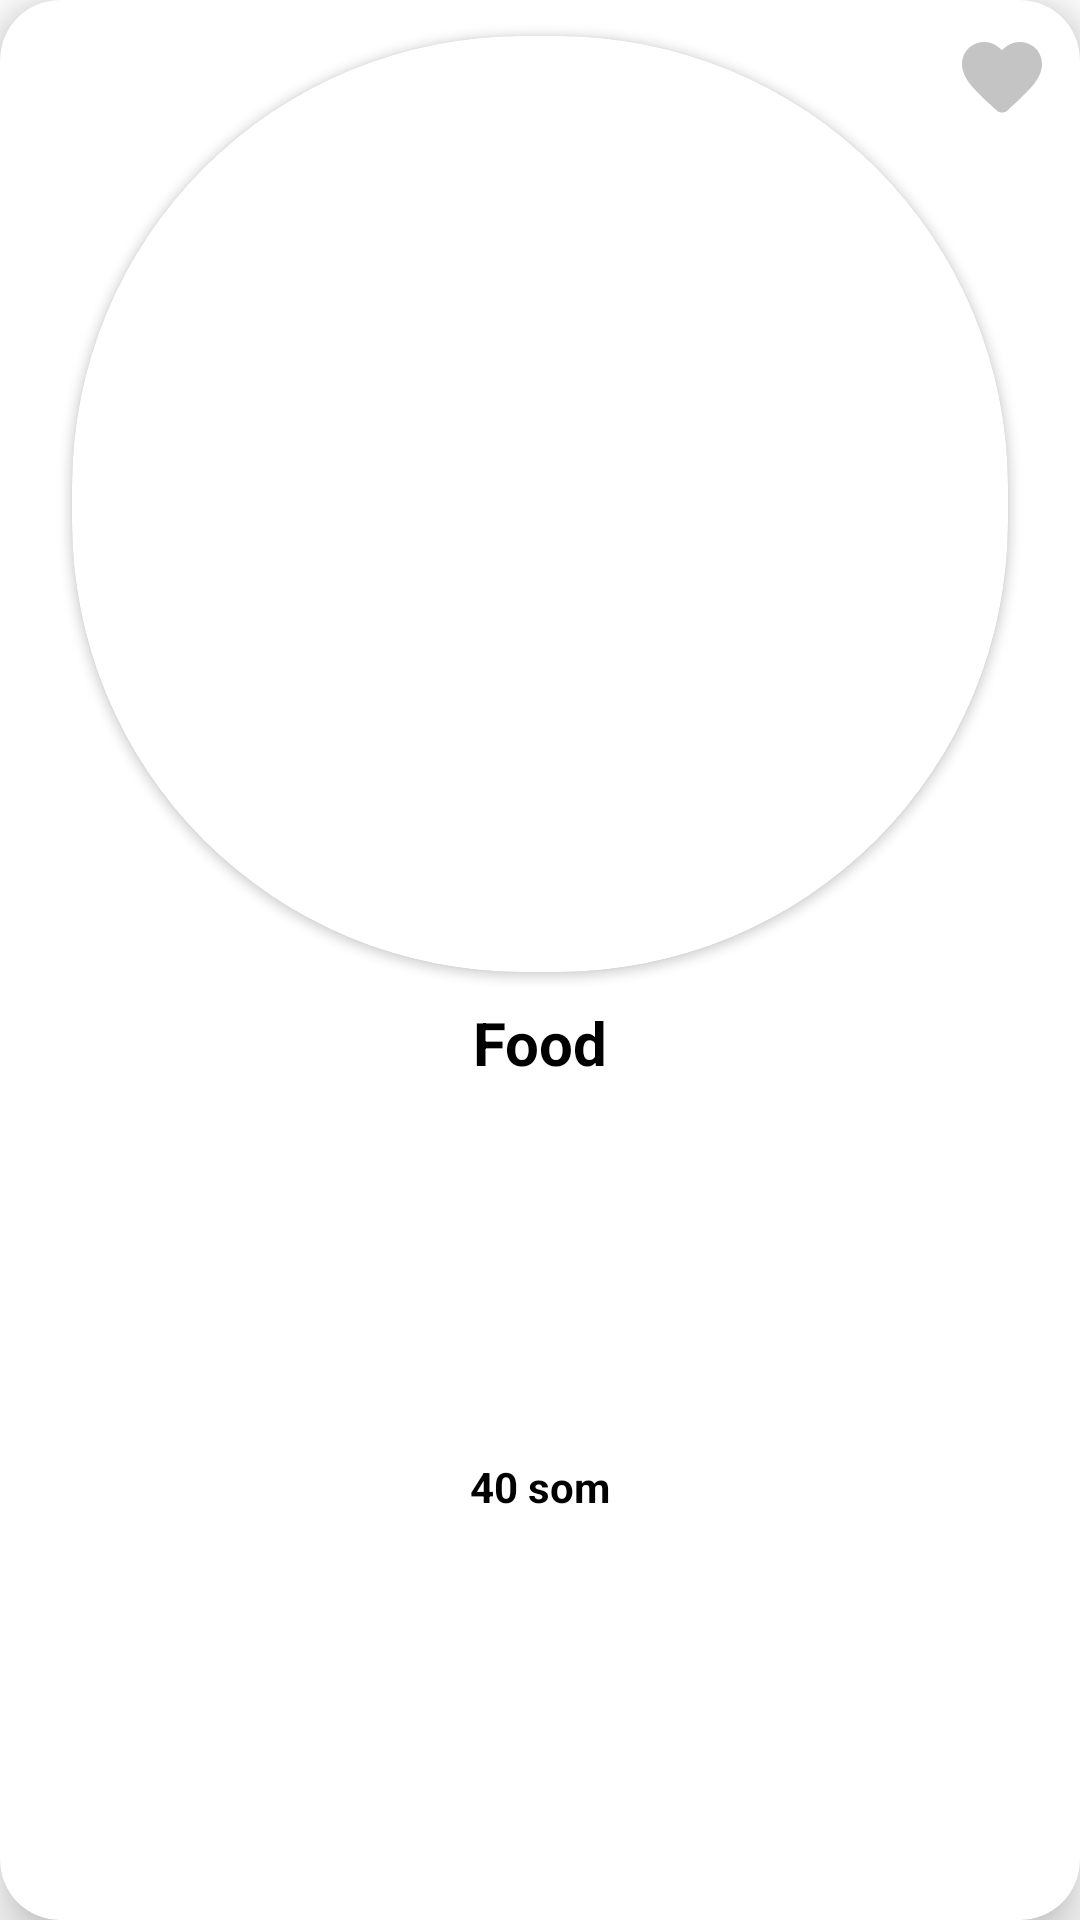

Screen size 1080w x 1920h. Icon name, then its center in pixels as [x,y]:
favorite: [1002,77]
